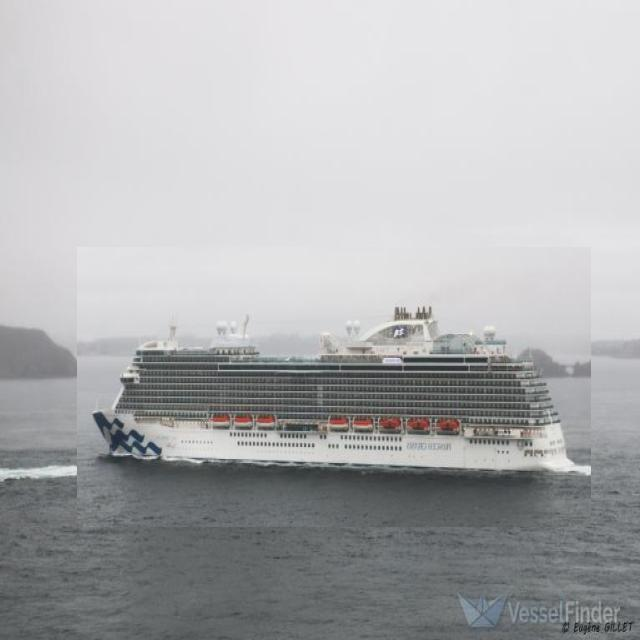PassengerShip: (77, 247, 591, 527)
